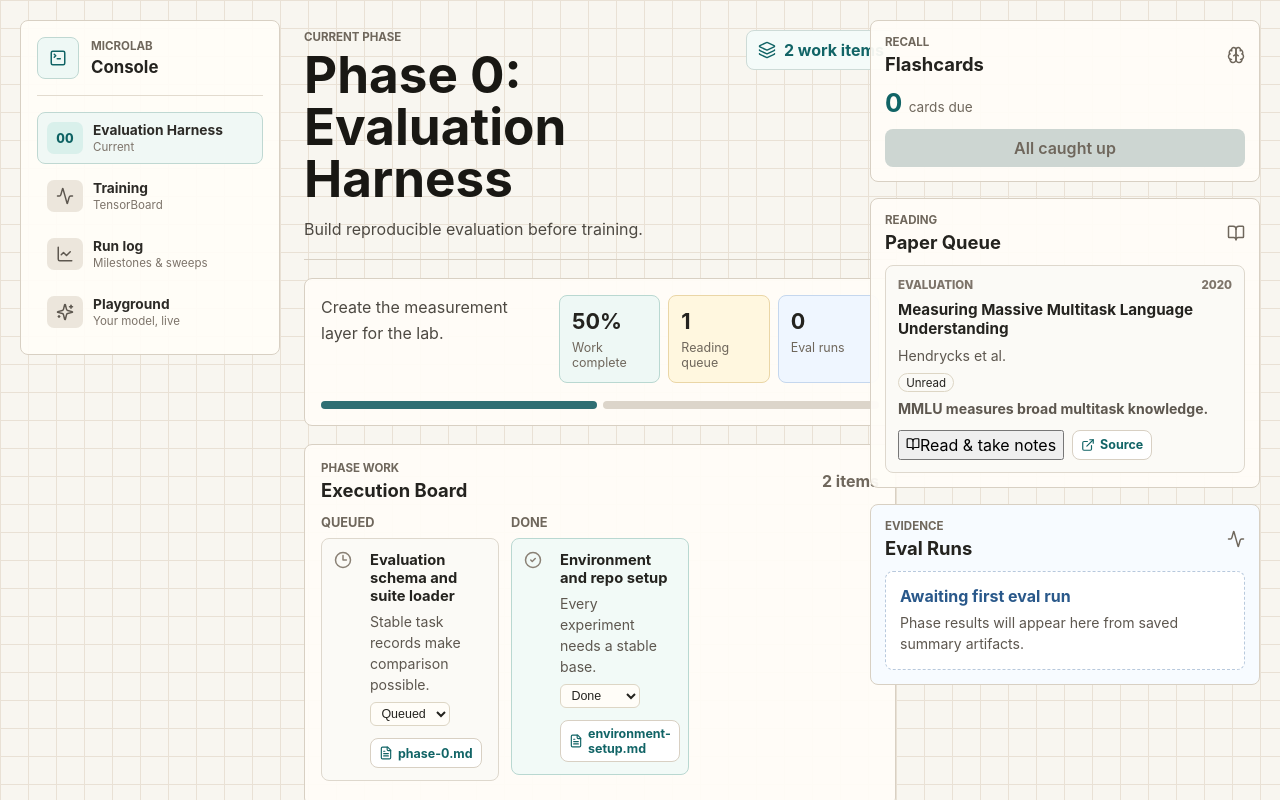
Test case: App › populates the playground run picker and reloads a checkpoint
The width and height of the screenshot is (1280, 800).
Click the button "Playground Your model, live".
click(150, 312)  # box [37,286,263,338]
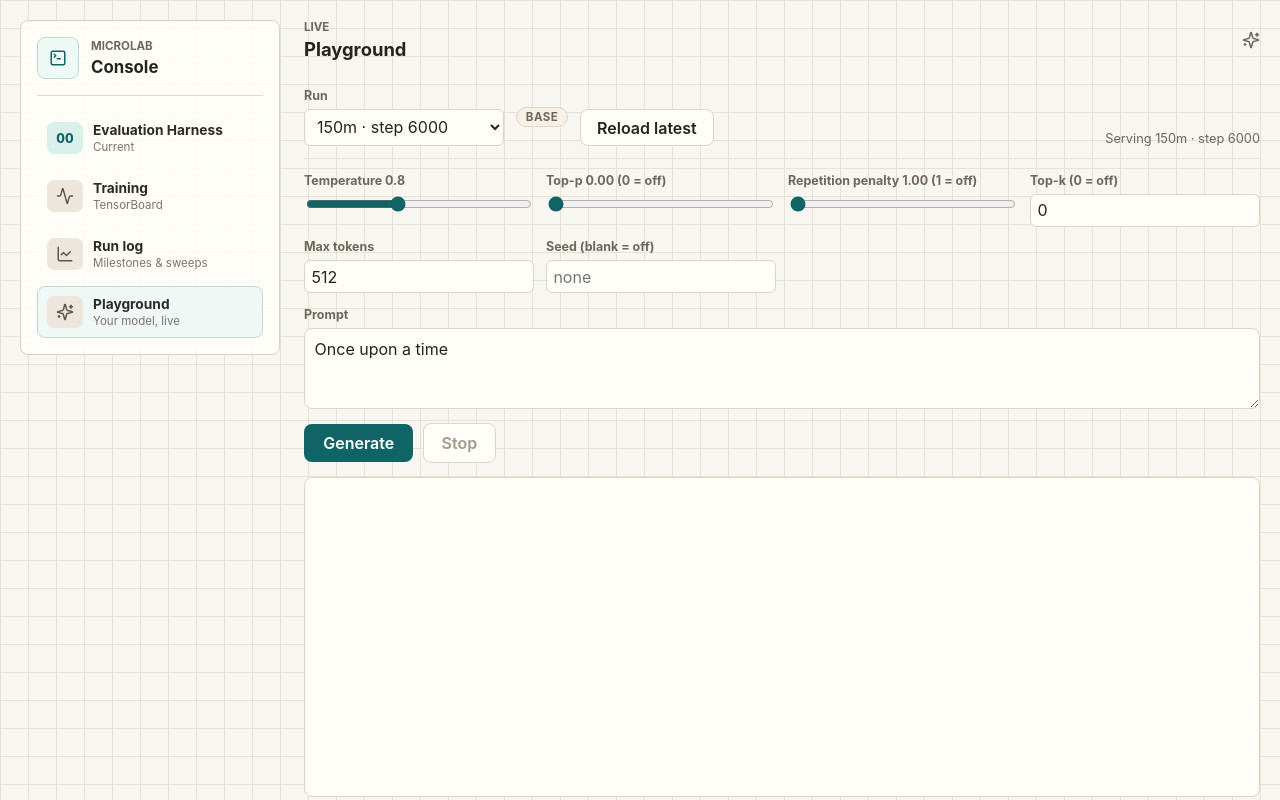
Now the dropdown named "run to serve" shows "150m · step 6000", box [304,109,504,146]
# Reload latest posts to /api/serve/reload and reflects the fresh step as resident.
Click the button "Reload latest".
click(647, 128)  # box [580,109,714,146]
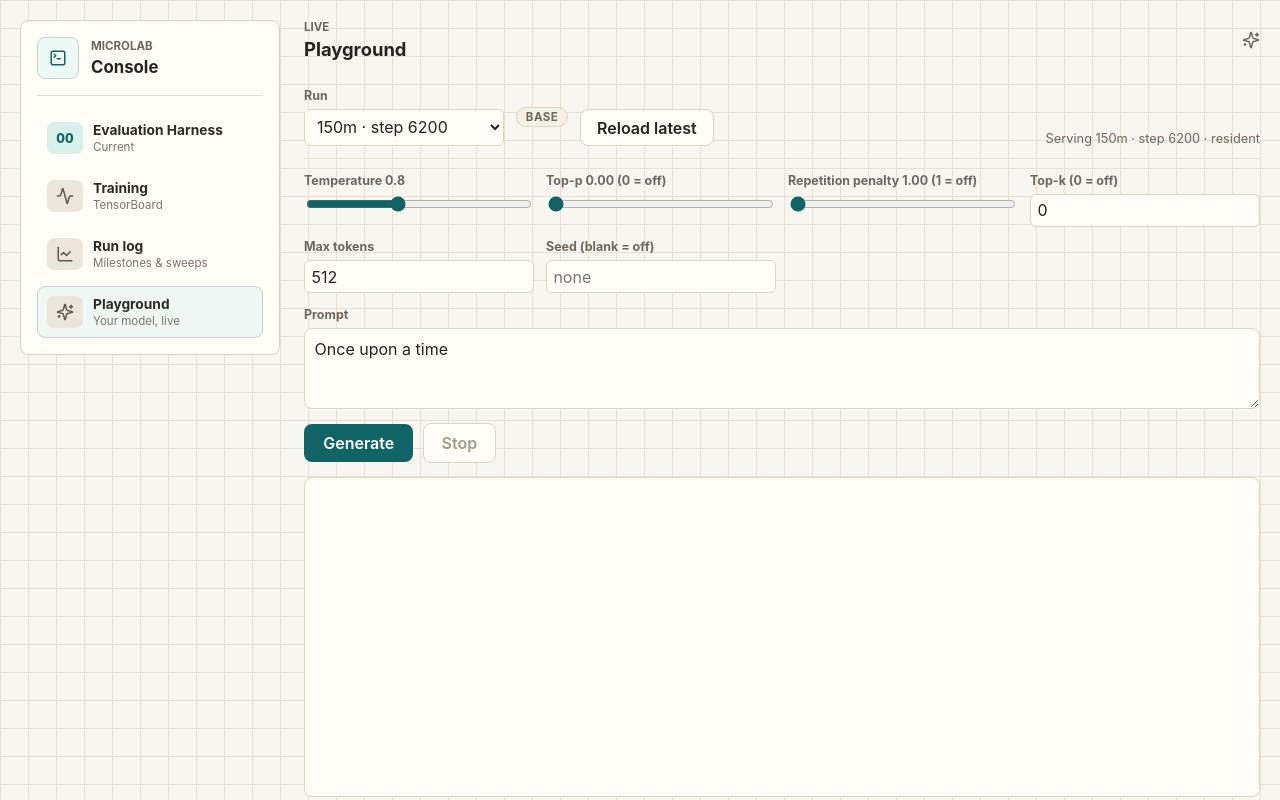
Now the text "Serving 150m · step 6200 · resident" is shown, box [1046,131,1260,146]
